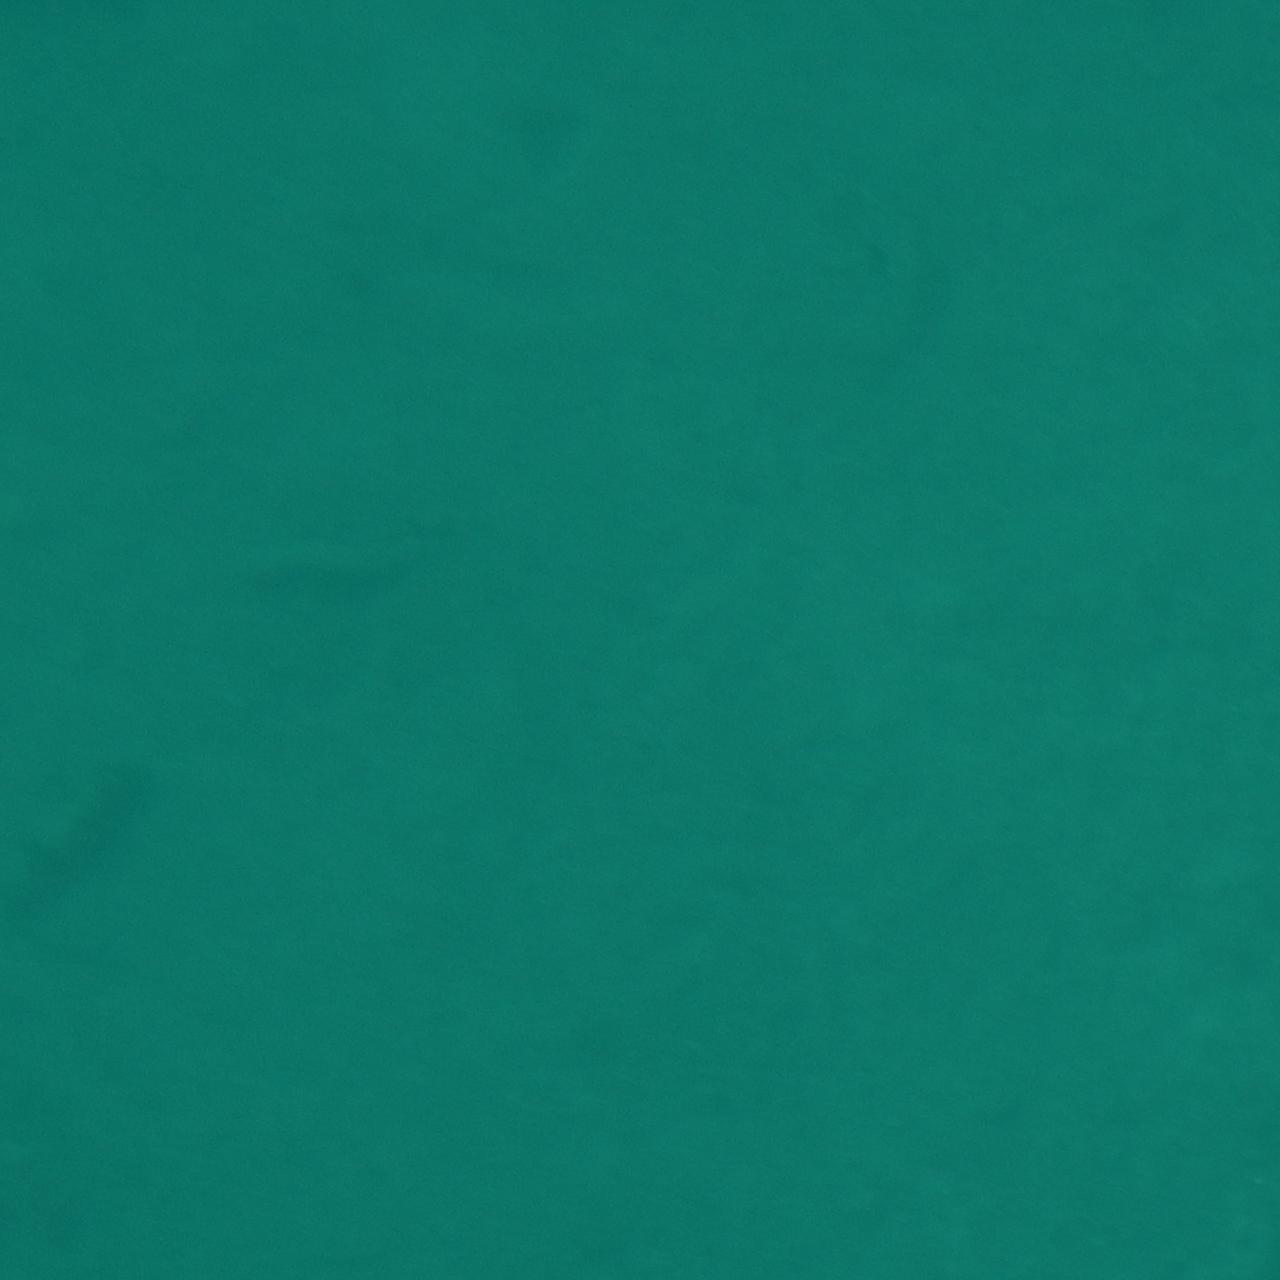Holothuria tubulosa: (223, 504, 533, 620)
